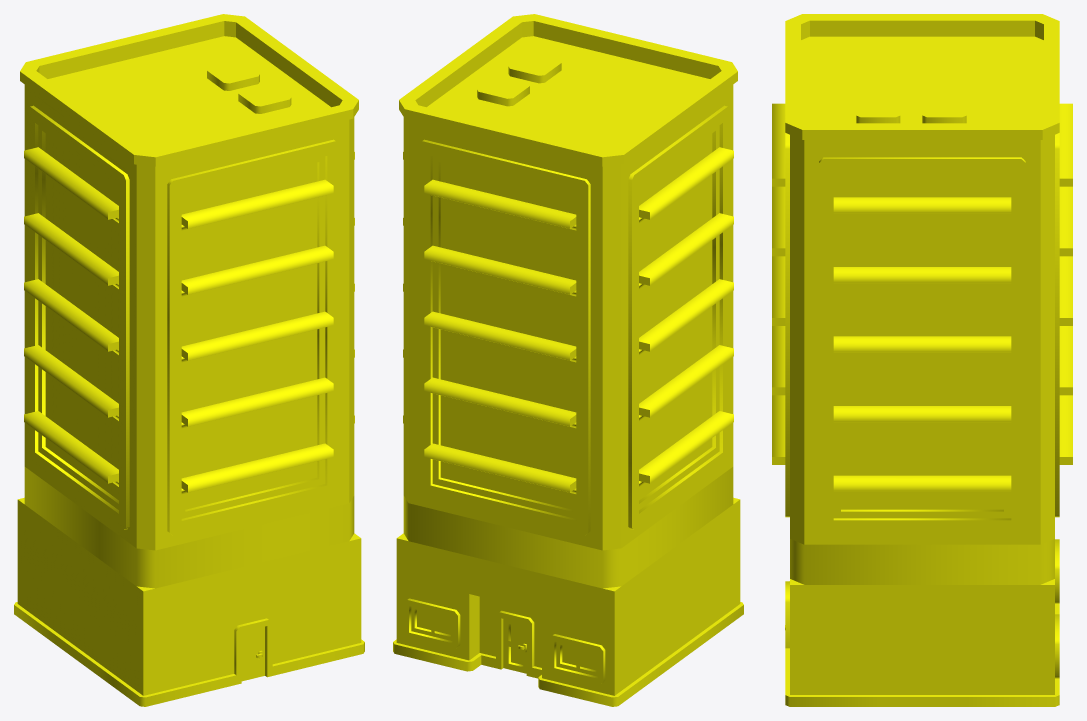
The model's file is industrial-0.glb.
3 renders of one model, left to right at view 1: azimuth 30°, elevation 25°; view 2: azimuth 150°, elevation 25°; view 3: azimuth 270°, elevation 25°, orthographic. The views are drawn at different scales.
Visible parts, largest first — view 1: building-skyscraper-a; view 2: building-skyscraper-a; view 3: building-skyscraper-a.
Part boxes in pixels (bbox=[...]): building-skyscraper-a: bbox=[14, 14, 364, 706]; building-skyscraper-a: bbox=[393, 14, 743, 706]; building-skyscraper-a: bbox=[772, 14, 1072, 706].
Bounding box in the file's own units: 1.36 × 2.88 × 1.36.
1 material, 1 textured.
